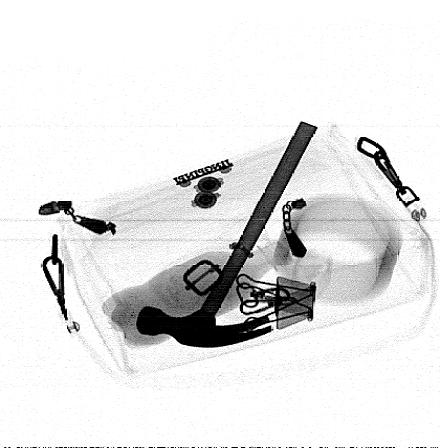Hammer: (136, 120, 318, 349)
